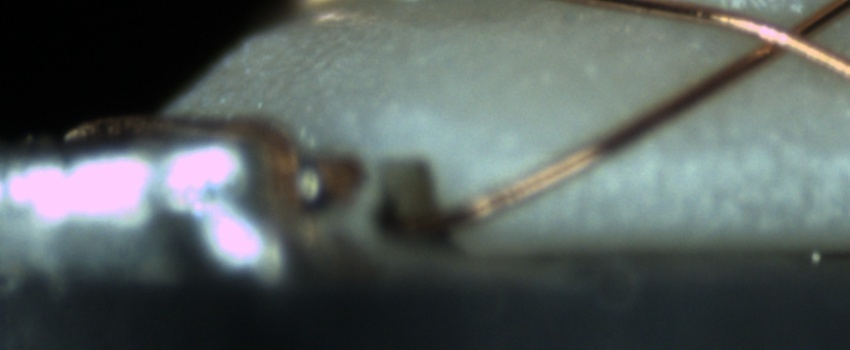CL: (732, 5, 834, 69)
DL: (608, 119, 849, 192)
TE: (53, 101, 312, 206)
